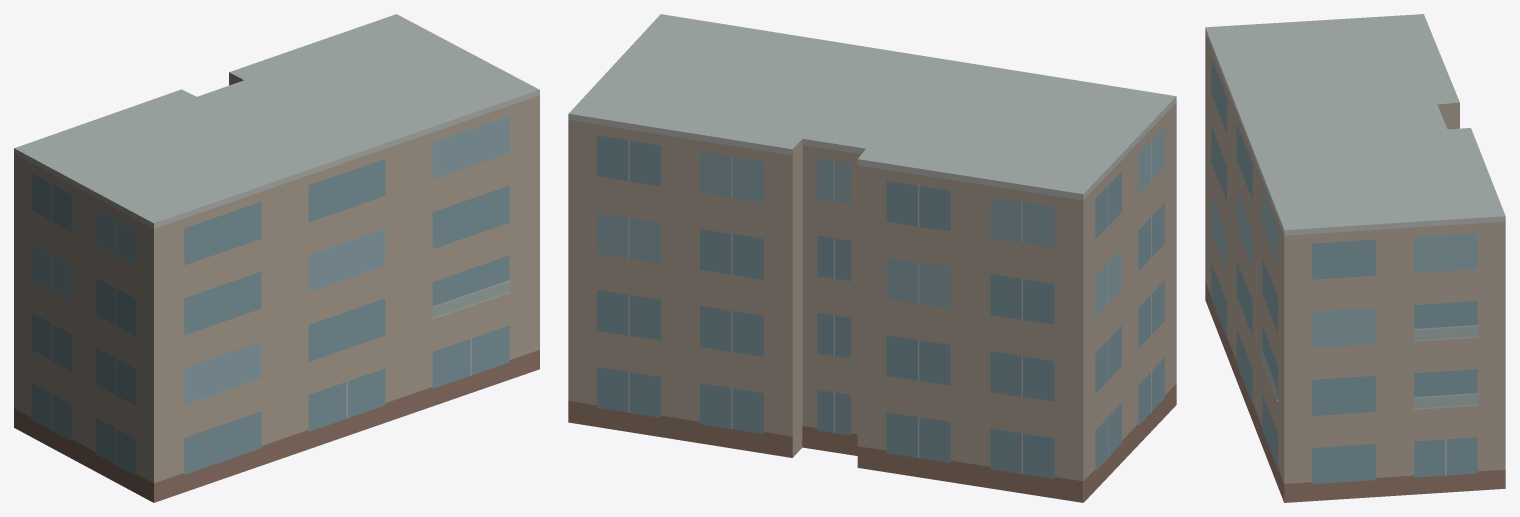
The model's file is survey-upis-32746708.glb.
The picture shows the model from 3 angles, left to right: view 1: azimuth 30°, elevation 25°; view 2: azimuth 150°, elevation 25°; view 3: azimuth 270°, elevation 25°; orthographic projection. The views are drawn at different scales.
Parts seen in each view (by area): view 1: survey-upis-32746708.tmp; view 2: survey-upis-32746708.tmp; view 3: survey-upis-32746708.tmp.
Boxes of the visible parts, x1,y1,x2,y2 form: survey-upis-32746708.tmp: [14, 14, 539, 502]; survey-upis-32746708.tmp: [568, 14, 1176, 502]; survey-upis-32746708.tmp: [1205, 14, 1505, 502].
Bounding box in the file's own units: 20.76 × 12.2 × 12.19.
